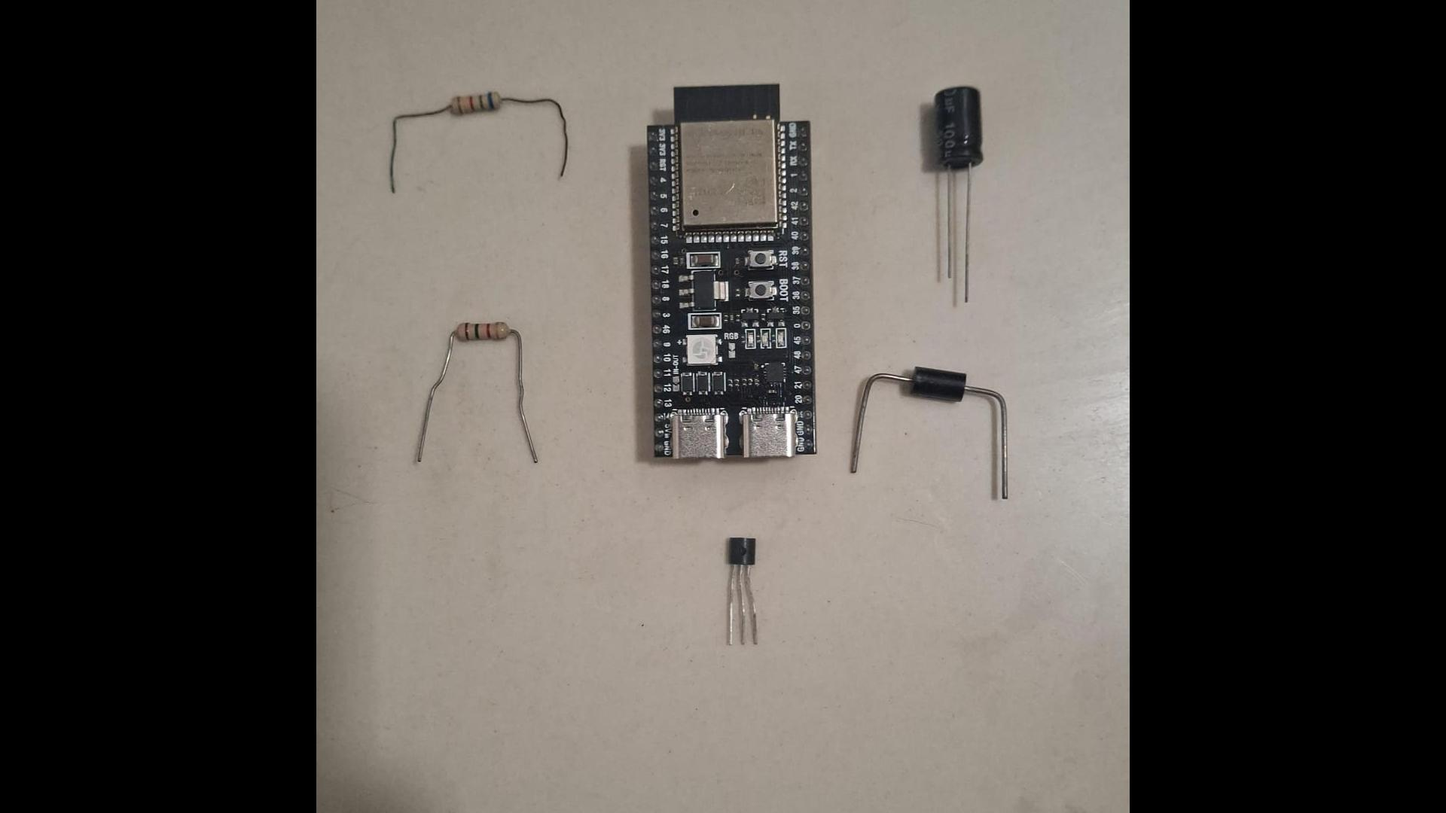Capacitor: (920, 87, 983, 303)
Diodo: (850, 366, 1008, 500)
ESP32: (647, 85, 816, 462)
Resistencia: (389, 90, 569, 193), (416, 320, 538, 463)
Transistor: (726, 536, 759, 646)
